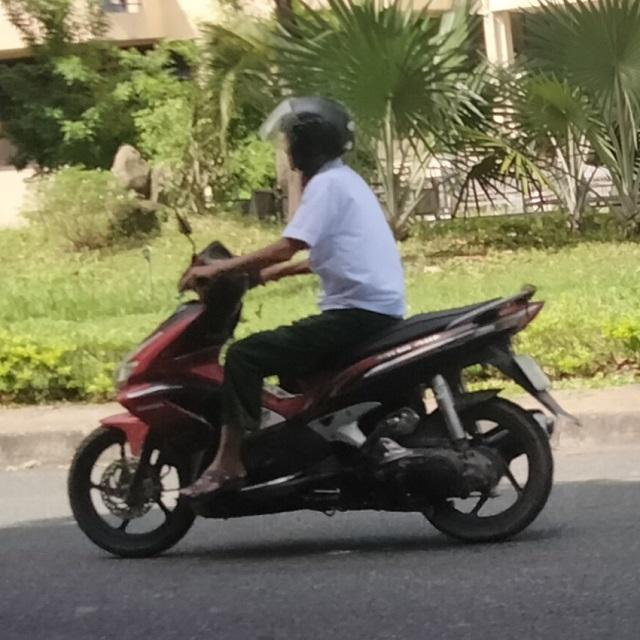Helmet: (258, 89, 360, 181)
